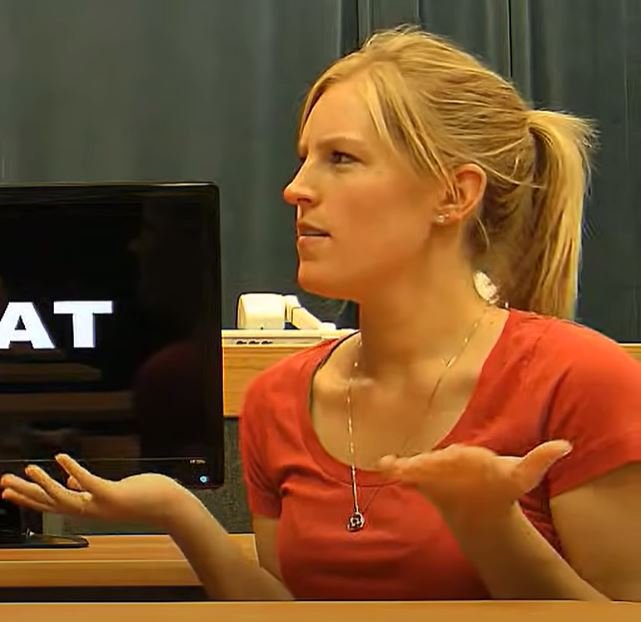What: (2, 420, 597, 559)
